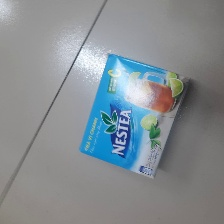Nestea: (78, 52, 191, 179)
